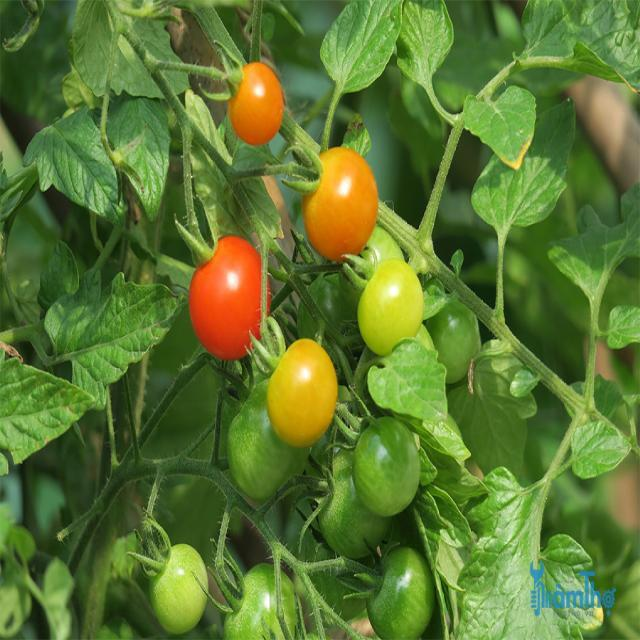kirmizi: (182, 224, 278, 374)
sari: (306, 132, 384, 264)
yesil: (340, 386, 448, 534), (124, 518, 216, 628)
